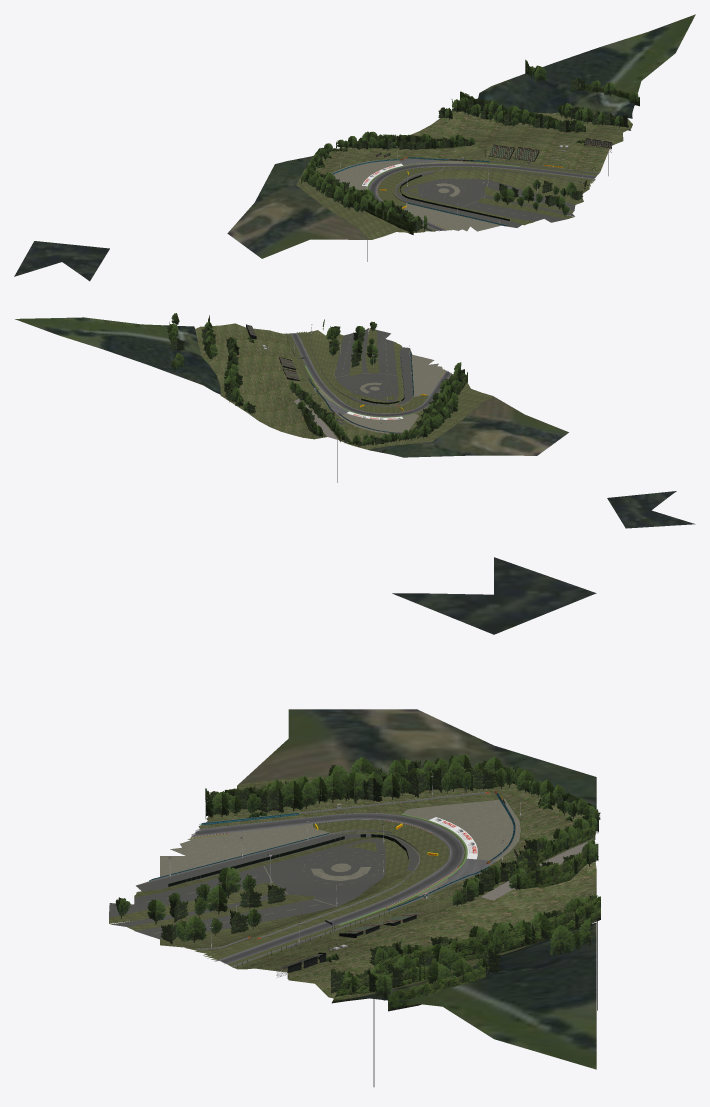
3 views of the same model, one above another, from view 1: azimuth 30°, elevation 25°; view 2: azimuth 150°, elevation 25°; view 3: azimuth 270°, elevation 25° (orthographic). The views are drawn at different scales.
Visible parts, largest first — view 1: tile_t08; view 2: tile_t08; view 3: tile_t08.
Boxes of the visible parts, x1,y1,x2,y2 form: tile_t08: (14,14,695,281); tile_t08: (15,313,695,528); tile_t08: (109,557,600,1086).
Size of the model in its own units: 944 by 127 by 307.
Materials: 37 (37 with a texture image).
